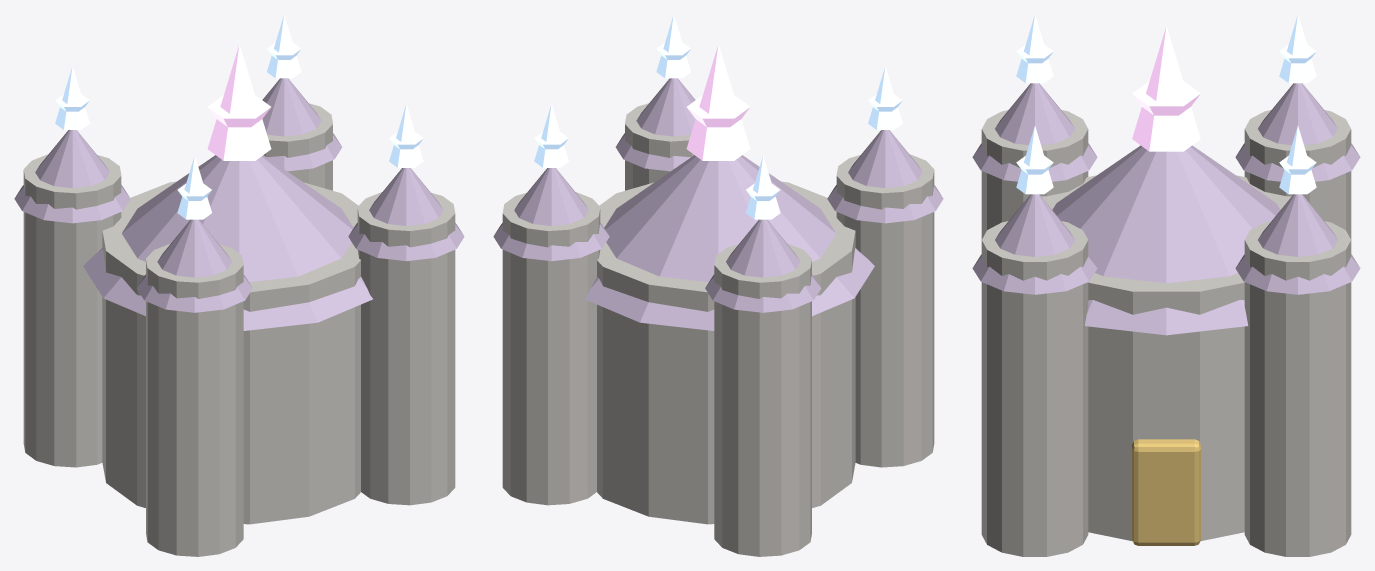
File: crystal_castle.glb
3 renders of one model, left to right at view 1: azimuth 30°, elevation 25°; view 2: azimuth 150°, elevation 25°; view 3: azimuth 270°, elevation 25°, orthographic. The views are drawn at different scales.
Parts seen in each view (by area): view 1: crystal_castle.001; view 2: crystal_castle.001; view 3: crystal_castle.001.
Part boxes in pixels (x1=…): crystal_castle.001: x1=14, y1=14, x2=464, y2=556; crystal_castle.001: x1=493, y1=14, x2=943, y2=556; crystal_castle.001: x1=972, y1=14, x2=1360, y2=556.
Bounding box in the file's own units: 6.2 × 8 × 6.2.
